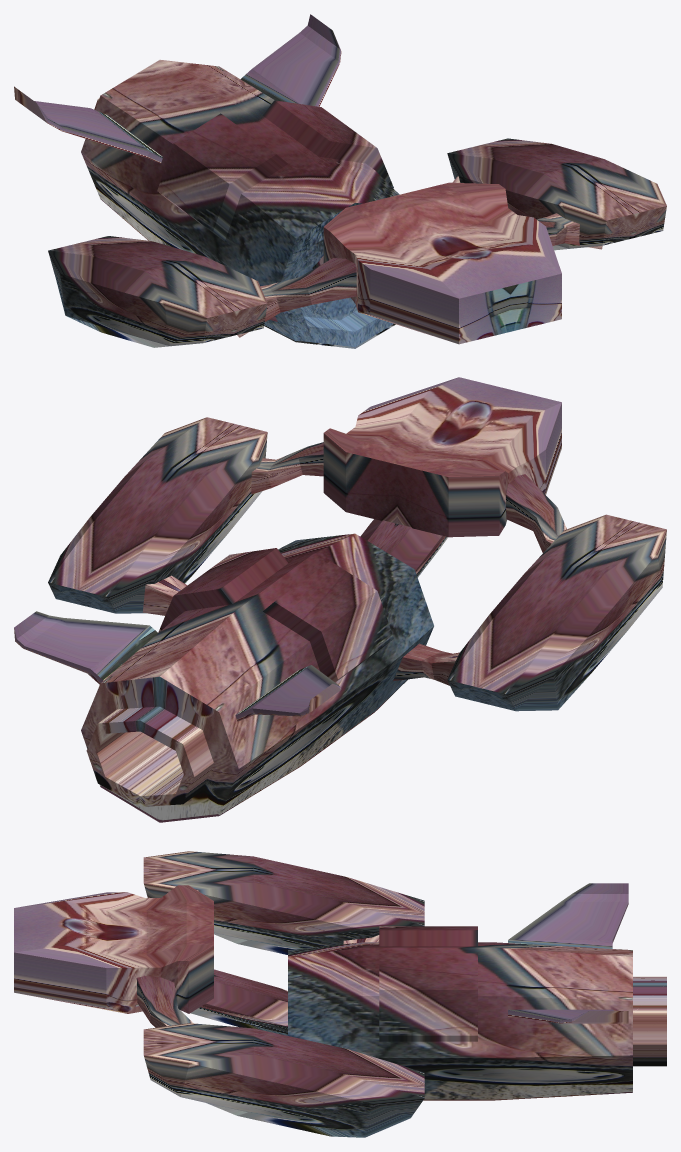
File: m1-ship3.obj
3 renders of one model, top to bottom at view 1: azimuth 30°, elevation 25°; view 2: azimuth 150°, elevation 25°; view 3: azimuth 270°, elevation 25°, orthographic. The views are drawn at different scales.
Visible parts, largest first — view 1: M1_Ship_3_Cube.049; view 2: M1_Ship_3_Cube.049; view 3: M1_Ship_3_Cube.049.
Part boxes in pixels (box(x1,y1,x2,y2)): M1_Ship_3_Cube.049: box(14, 14, 666, 348); M1_Ship_3_Cube.049: box(14, 377, 666, 822); M1_Ship_3_Cube.049: box(14, 851, 666, 1137).
Bounding box in the file's own units: 30.87 × 11.58 × 39.84.
